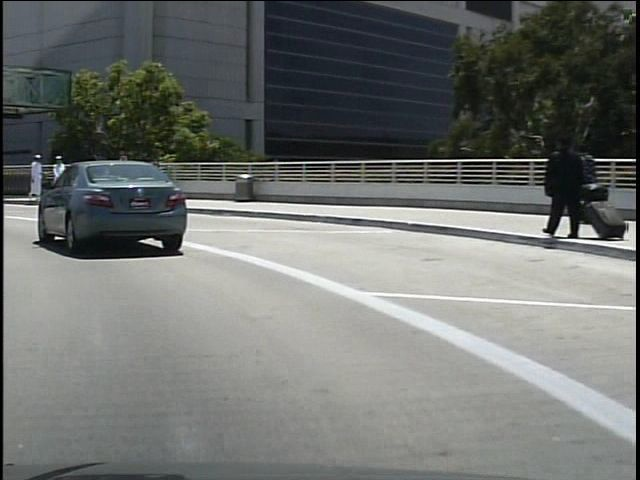person: (534, 136, 581, 240), (568, 142, 601, 232), (47, 152, 67, 201), (24, 149, 43, 199)
